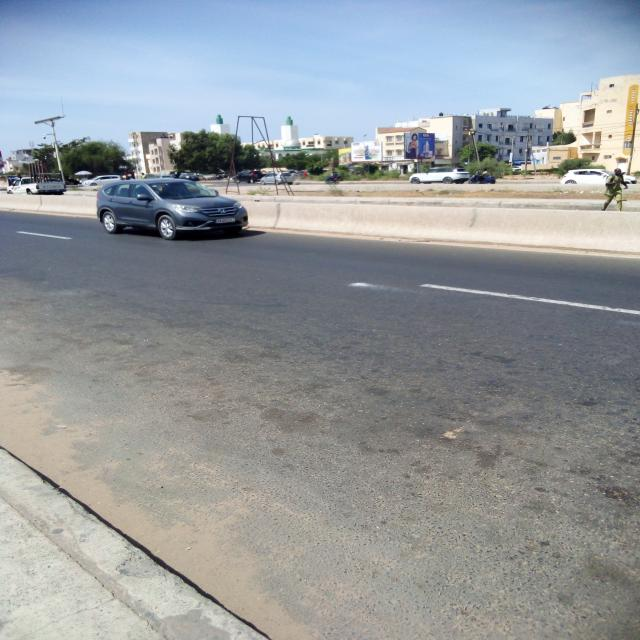moto: (469, 172, 496, 185)
particulier: (98, 180, 249, 241), (8, 162, 68, 196), (409, 169, 469, 185), (561, 170, 613, 186), (83, 176, 123, 187), (236, 171, 266, 184), (261, 174, 294, 185)
